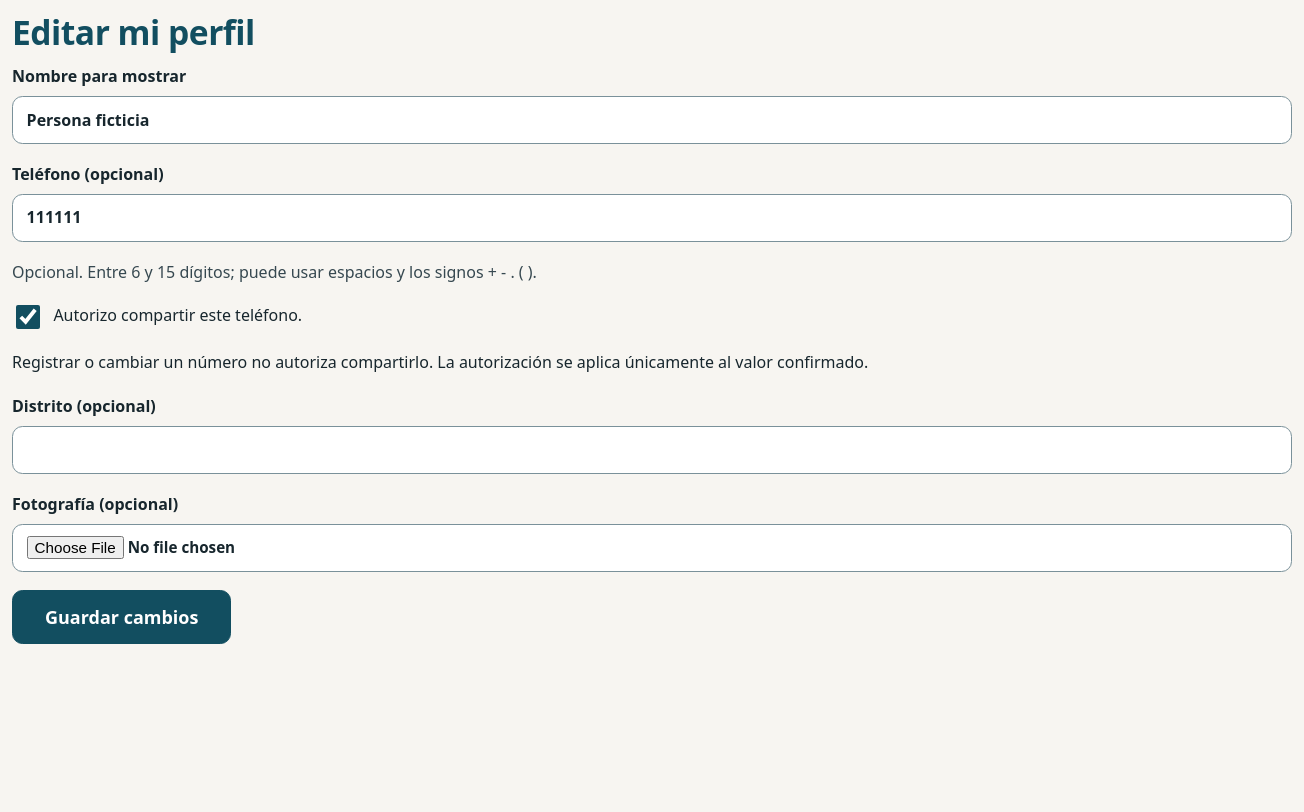
Scenario: CA-PER-02 cambiar teléfono retira checkbox heredado; solo decisión explícita autoriza
Replace the text in the field labelled "Teléfono (opcional)" with "222222": (652, 218) [12,194,1292,242]
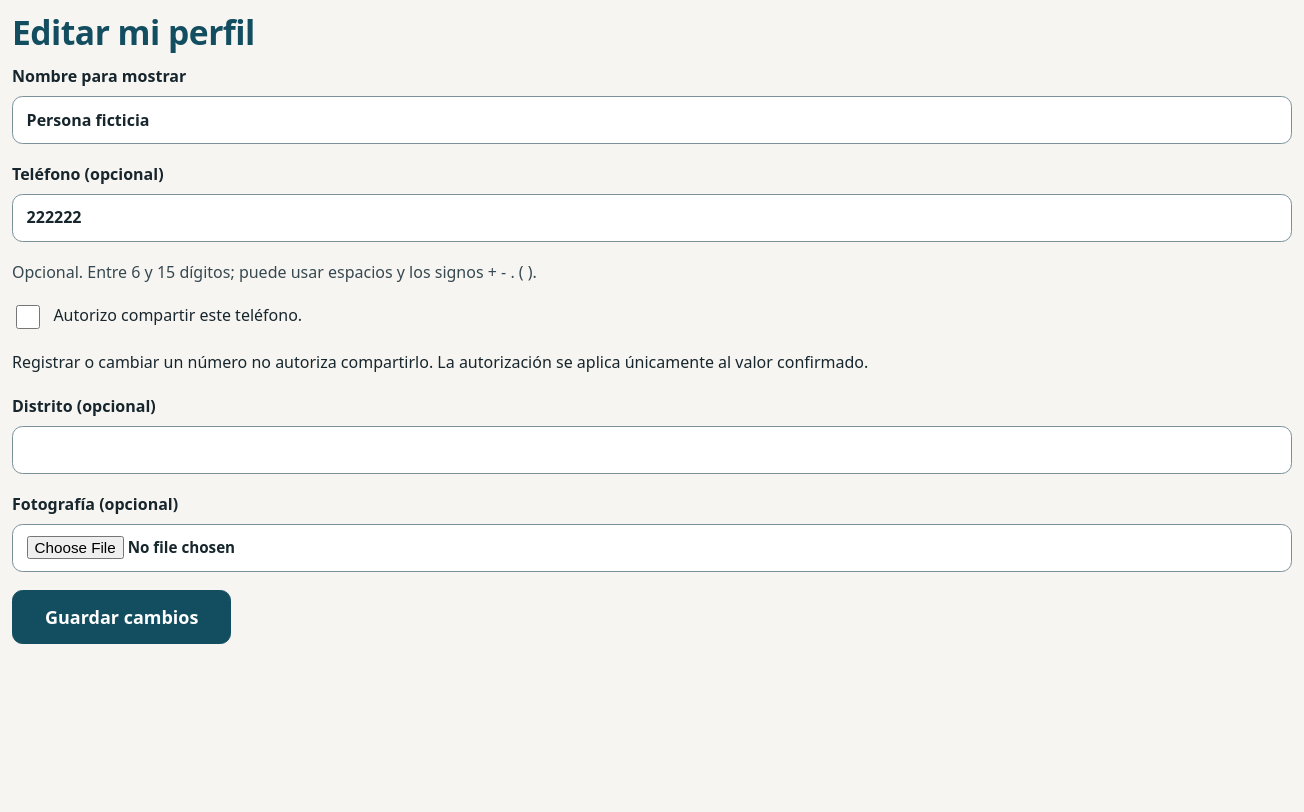
expect the checkbox labelled "Autorizo compartir este teléfono." is not checked: met, box [16,306,40,330]
Click the button "Guardar cambios": (122, 617) [12,590,231,644]
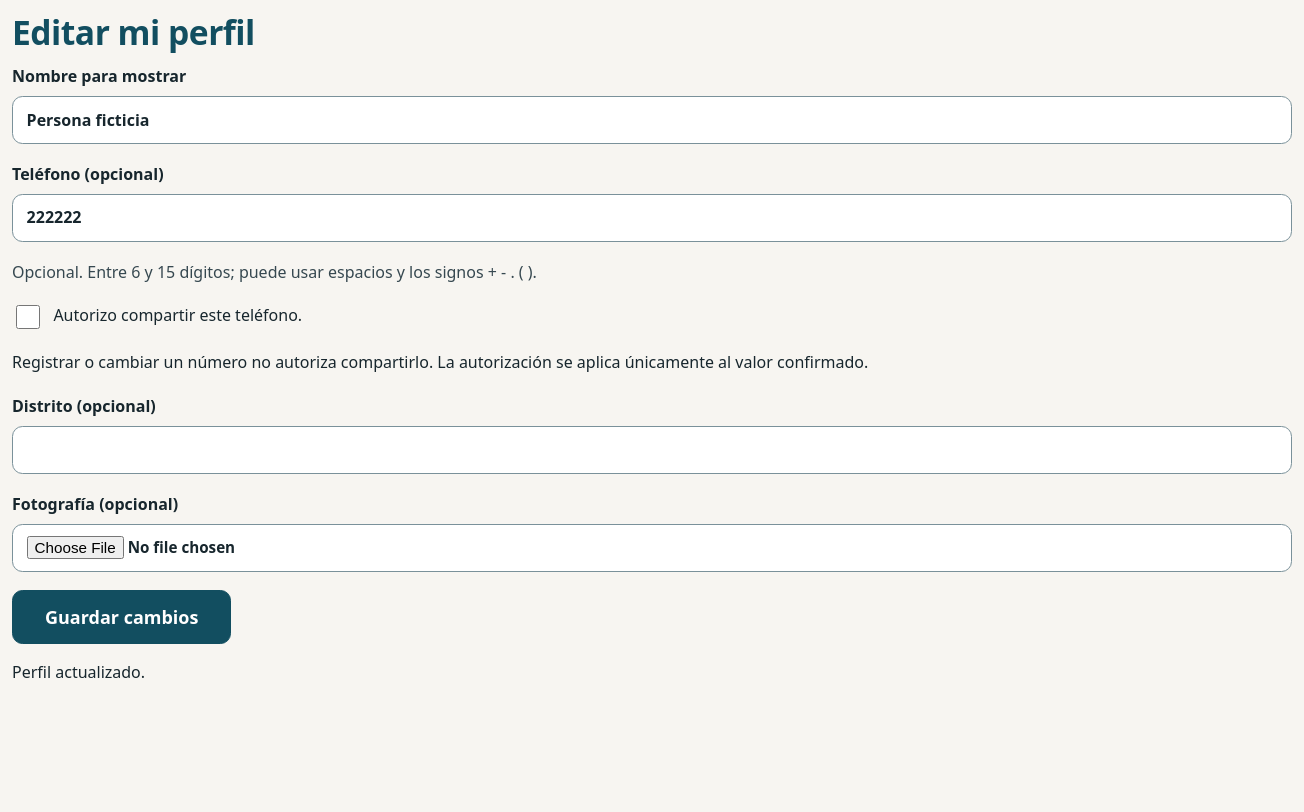
expect the text "Perfil actualizado." is shown: met, box [12,661,145,683]
